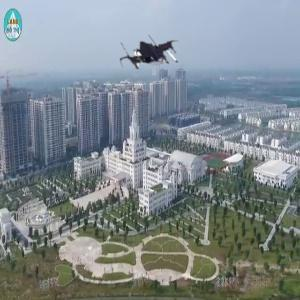drone: (118, 20, 187, 89)
